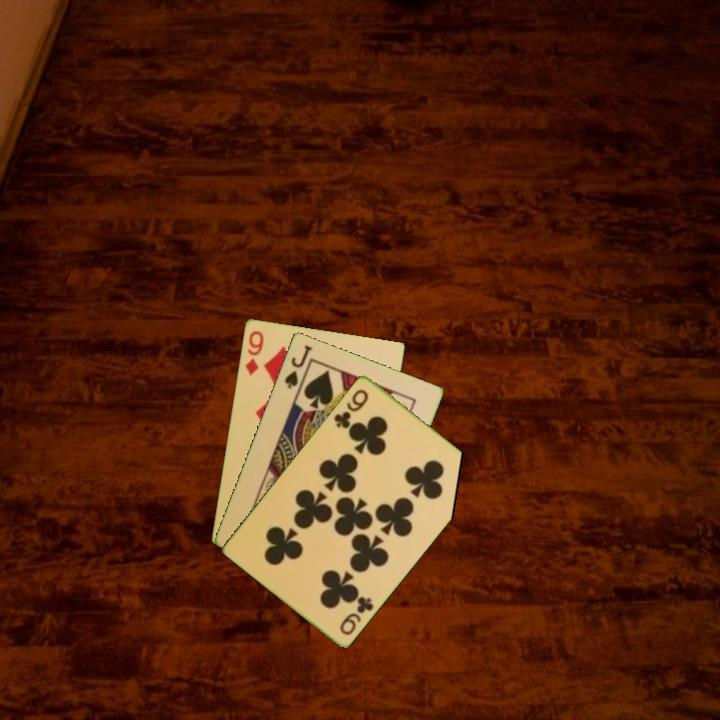9c: (330, 385, 371, 431), (336, 592, 377, 638)
9d: (241, 327, 266, 378)
Js: (280, 341, 315, 391)
